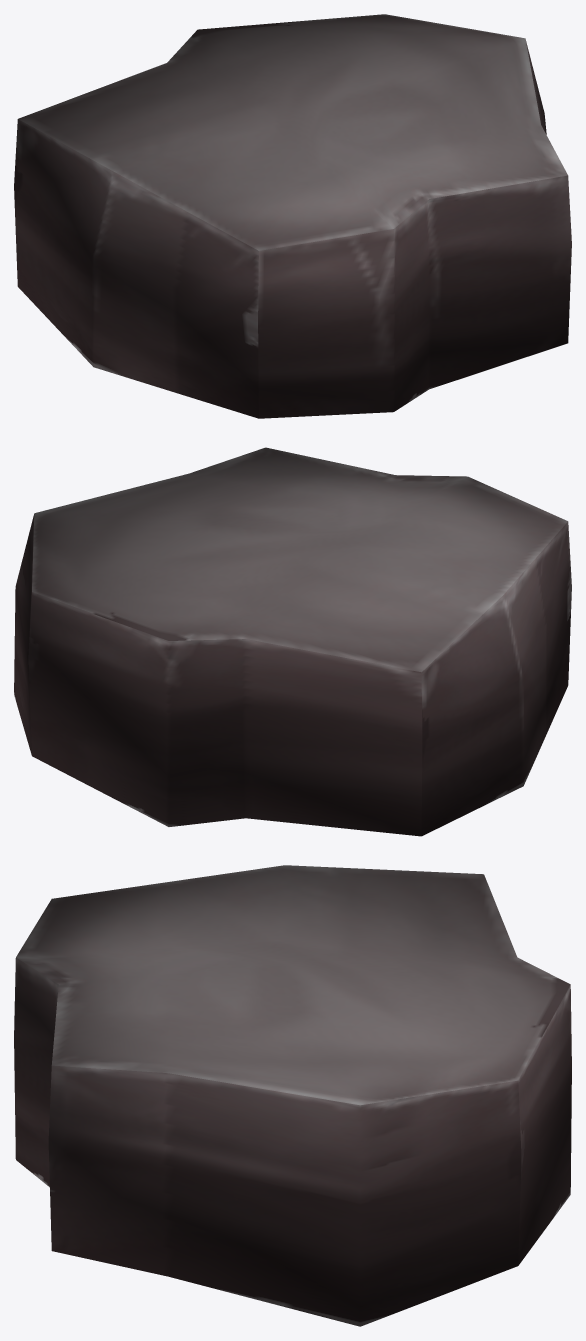
Rendered from rock2.gltf.
The picture shows the model from 3 angles, top to bottom: view 1: azimuth 30°, elevation 25°; view 2: azimuth 150°, elevation 25°; view 3: azimuth 270°, elevation 25°; orthographic projection. The views are drawn at different scales.
Visible parts, largest first — view 1: SharedRock; view 2: SharedRock; view 3: SharedRock.
Part boxes in pixels (box(x1,y1,x2,y2)): SharedRock: box(14, 14, 571, 418); SharedRock: box(14, 447, 571, 836); SharedRock: box(14, 865, 571, 1326).
Size of the model in its own units: 1.72 by 0.7518 by 1.54.
1 material, 1 textured.
